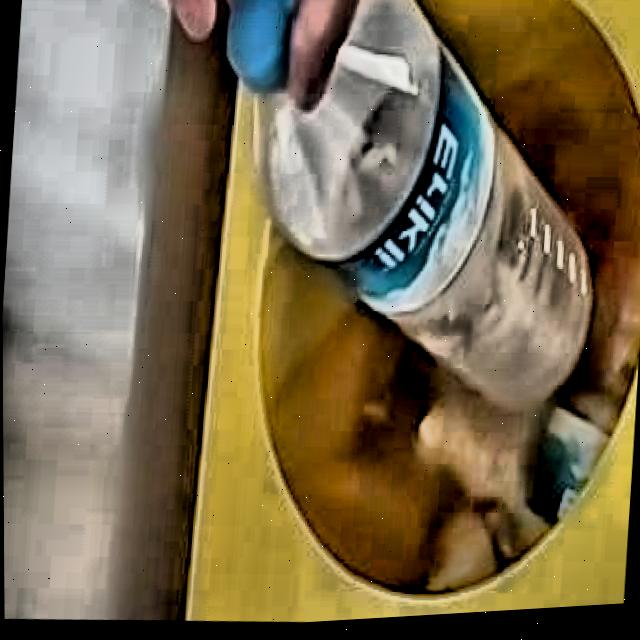plastic: (226, 0, 592, 408)
